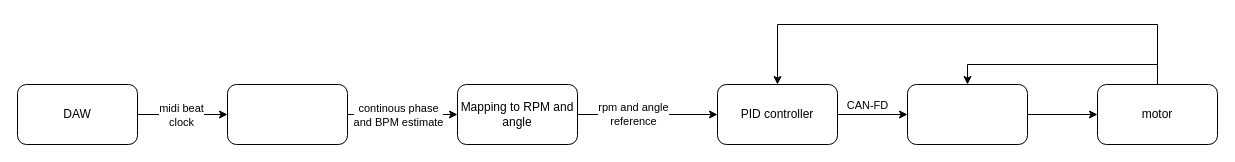
This 1235x162 diagram has some shape labels left out. The shapes that lost their labels are listed below. From the top down, each one's centre as x and y in pixels, then its label:
the point at 287,114: PLL
the point at 967,114: Moteus speed controller
